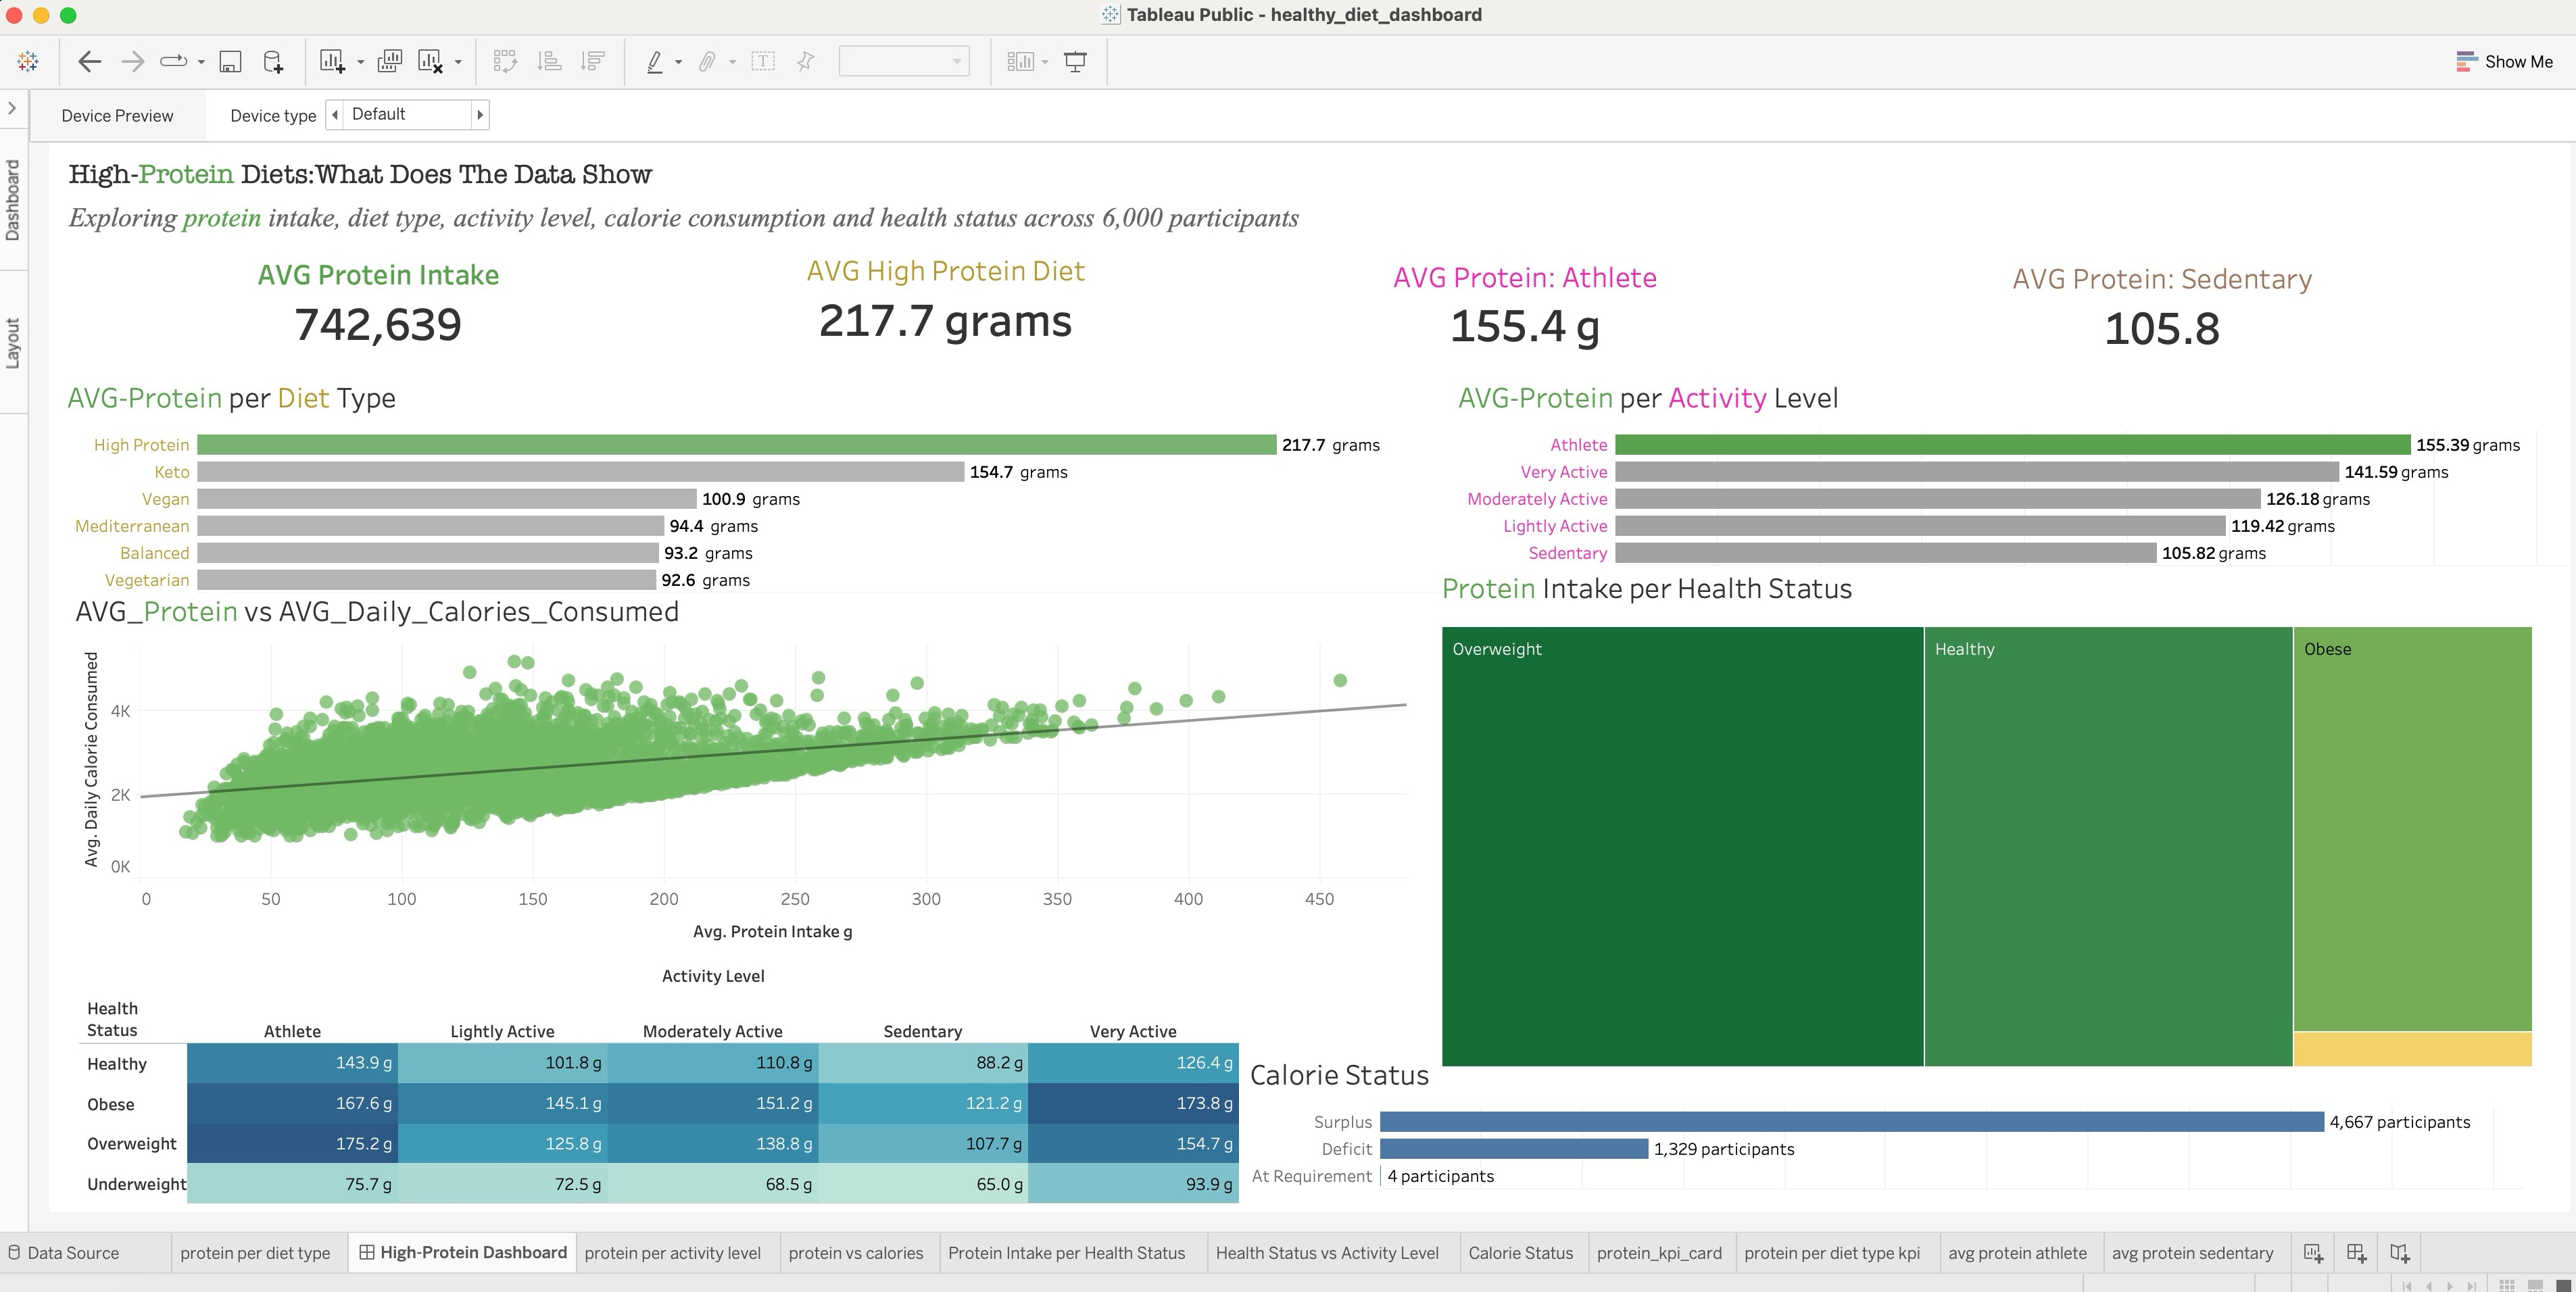

This screenshot's page, from the dashboard's own definition file:
{"tool":"tableau","page":{"name":"High-Protein Dashboard","canvas":[1000,1000],"units":"permille","ordinal":0},"visuals":[{"type":"title","box":[4.3,10.1,991.4,40.5]},{"type":"text","box":[4.3,50.6,991.4,40.5]},{"type":"worksheet","title":"protein_kpi_card","mark":"Text","box":[1.1,88.5,260.1,126.4]},{"type":"worksheet","title":"avg protein athlete","mark":"Automatic","box":[472.9,97.4,225.7,112.5]},{"type":"worksheet","title":"avg protein sedentary","mark":"Automatic","box":[682,101.1,313.1,108.7]},{"type":"worksheet","title":"protein per diet type kpi","mark":"Automatic","box":[244.5,102.4,224.1,115]},{"type":"worksheet","title":"protein per diet type","mark":"Automatic","rows":["Diet_Type"],"cols":["Protein_Intake_g"],"box":[4.7,215.4,547.7,205.9]},{"type":"worksheet","title":"protein per activity level","mark":"Automatic","rows":["Activity_Level"],"cols":["Protein_Intake_g"],"box":[556.5,215.4,441.8,187]},{"type":"worksheet","title":"Protein Intake per Health Status","mark":"Automatic","box":[550,392.9,437.1,478.1]},{"type":"worksheet","title":"protein vs calories","mark":"Circle","rows":["Daily_Calorie_Consumed"],"cols":["Protein_Intake_g"],"box":[8.2,414.2,530.7,343.2]},{"type":"worksheet","title":"Health Status vs Activity Level","mark":"Square","rows":["Health_Status"],"cols":["Activity_Level"],"box":[6.4,766.1,478.8,226.3]},{"type":"worksheet","title":"Calorie Status","mark":"Automatic","rows":["Calculation_4548646812688384"],"cols":["Person_ID"],"box":[491.2,848.3,490.6,141.6]}]}

Visuals, with their boxes on the dashboard's canvas, which has no fixed pixel size, in thousandths of its width and height (x1, y1, x2, y2). These are canvas units, not pixel positions in the 2576x1292 screenshot, which may show the page scaled, cropped or inside an application window:
title: detection(4, 10, 996, 51)
text: detection(4, 51, 996, 91)
"protein_kpi_card" worksheet (Text marks): detection(1, 88, 261, 215)
"avg protein athlete" worksheet: detection(473, 97, 699, 210)
"avg protein sedentary" worksheet: detection(682, 101, 995, 210)
"protein per diet type kpi" worksheet: detection(244, 102, 469, 217)
"protein per diet type" worksheet: detection(5, 215, 552, 421)
"protein per activity level" worksheet: detection(556, 215, 998, 402)
"Protein Intake per Health Status" worksheet: detection(550, 393, 987, 871)
"protein vs calories" worksheet (Circle marks): detection(8, 414, 539, 757)
"Health Status vs Activity Level" worksheet (Square marks): detection(6, 766, 485, 992)
"Calorie Status" worksheet: detection(491, 848, 982, 990)
